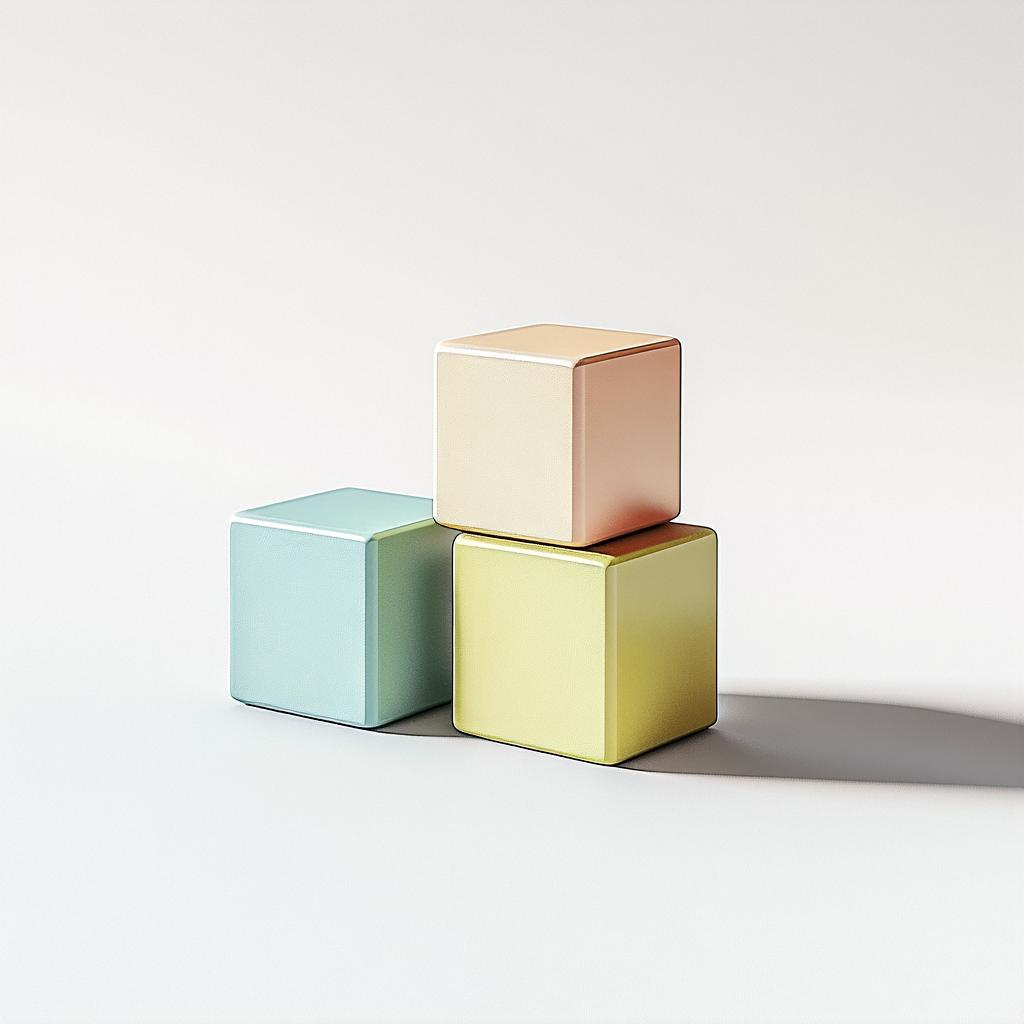cube: (450, 521, 719, 766), (431, 321, 682, 548), (228, 484, 455, 730)
